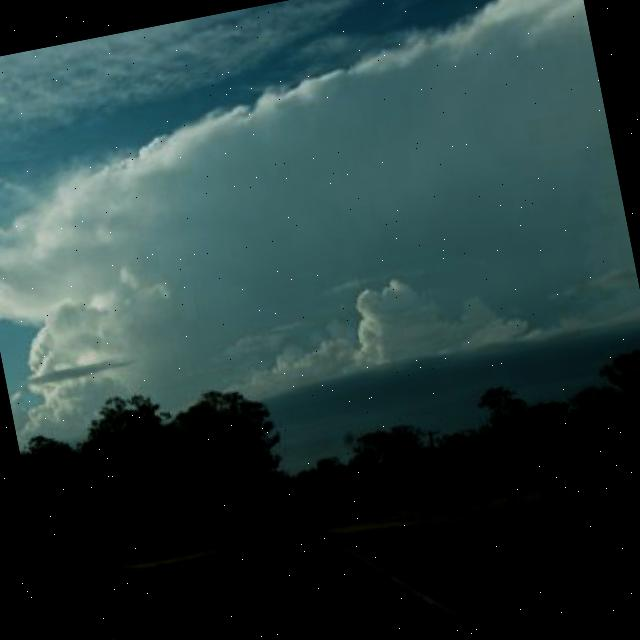Cb: (1, 1, 640, 411)
